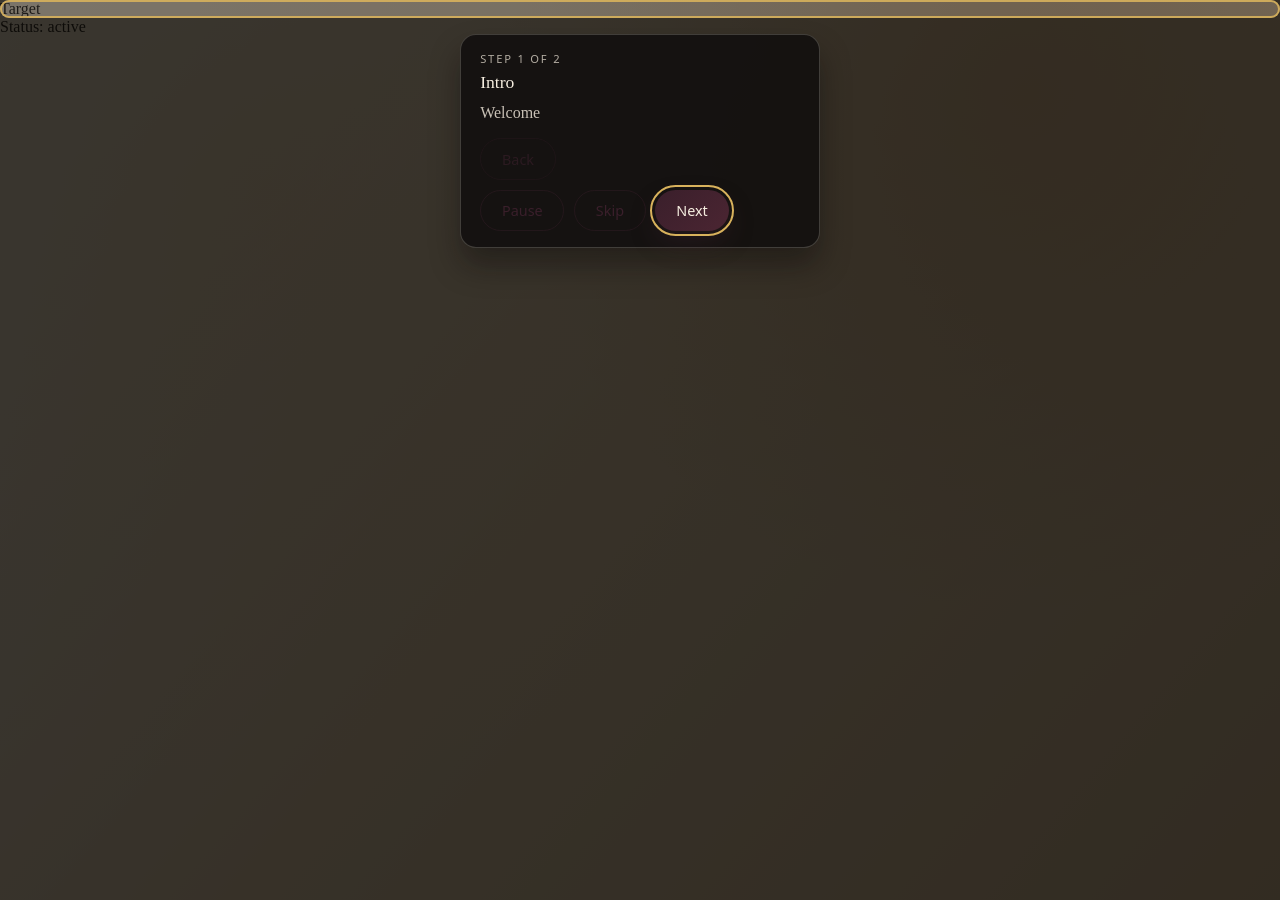
Test case: Tutorial › auto-starts and advances steps
Check: the text "Intro" is shown, box [480,72,514,92]
Check: the text "Step 1 of 2" is shown, box [480,51,561,66]
Click the button "Next" at [692, 210], box [655,190,729,231]
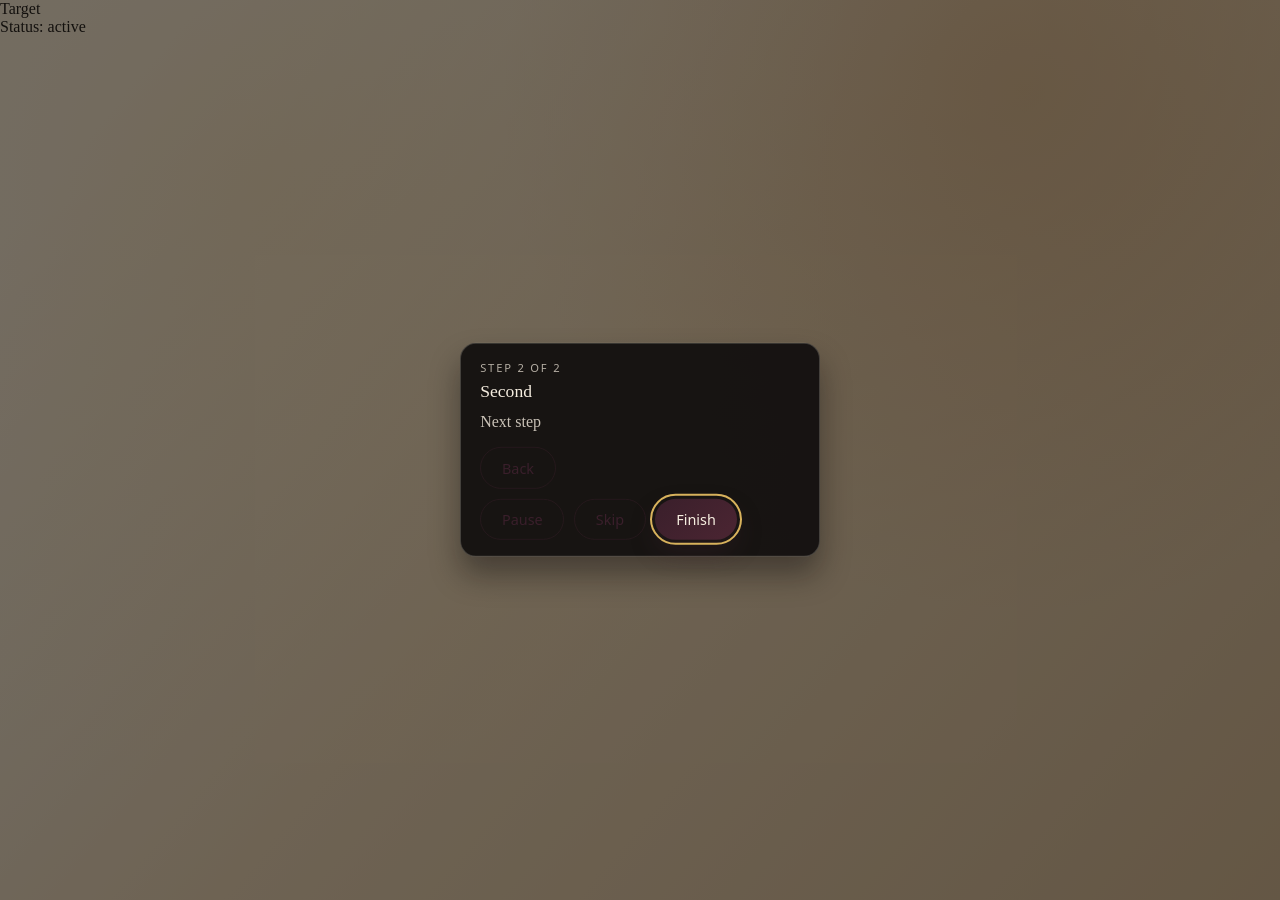
Check: the text "Second" is shown, box [480,381,532,401]
Check: the text "Step 2 of 2" is shown, box [480,360,561,375]
Check: the button "Finish" is shown, box [655,498,737,540]
